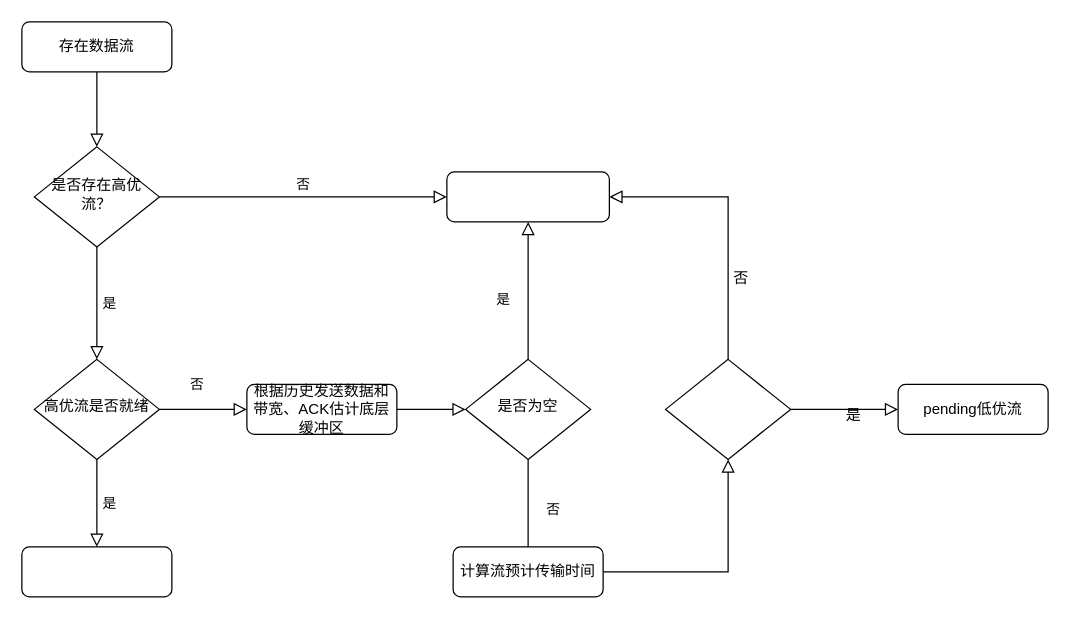
This 1070x631 diagram has some shape labels left out. Here are the shapes that lost their labels. From the top down, the centre of each, then its label:
At [527,196]: "发送低优流，将该流调整成未就绪态".
At [727,408]: "大于等于允许的截止时间".
At [96,571]: "发送高优流，将该流调整成未就绪态".
